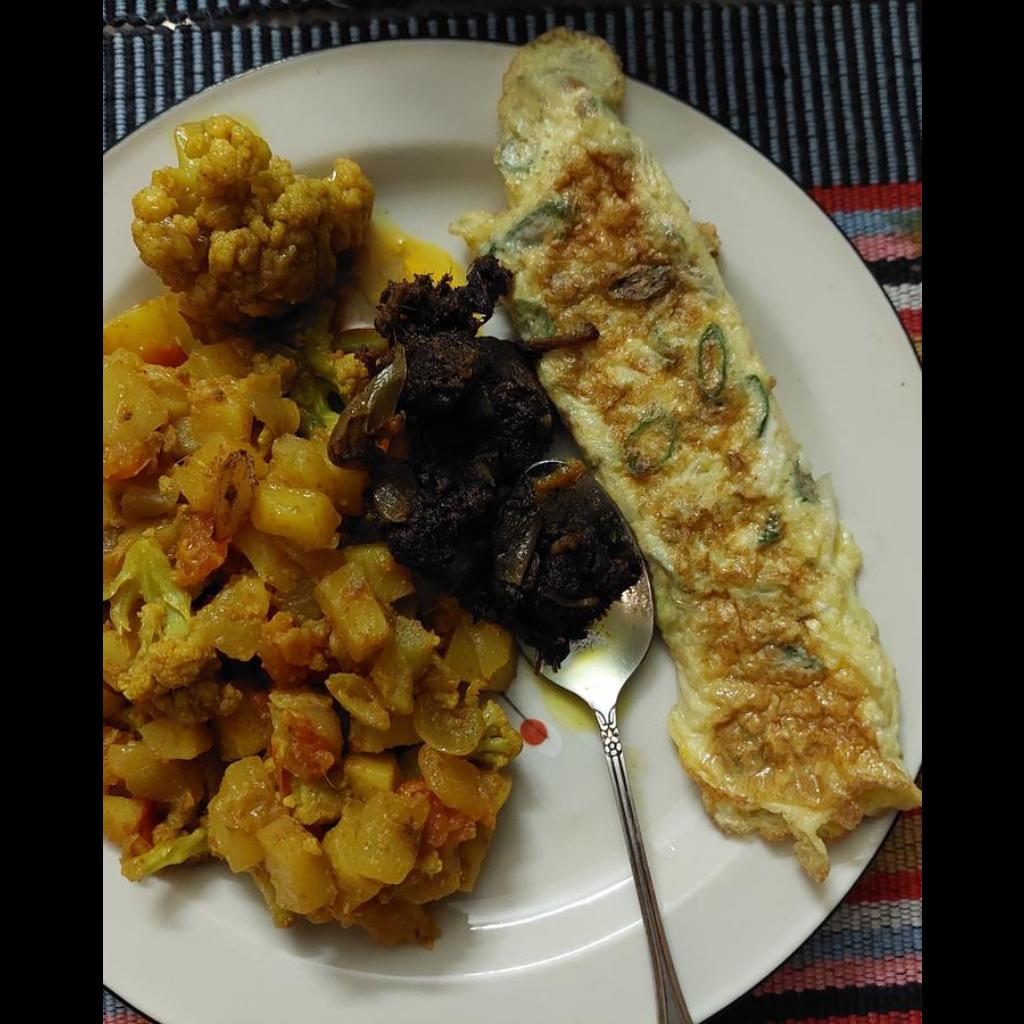beef: (332, 251, 631, 659)
egg-poached: (453, 31, 919, 884)
vegetable: (102, 116, 520, 945)
